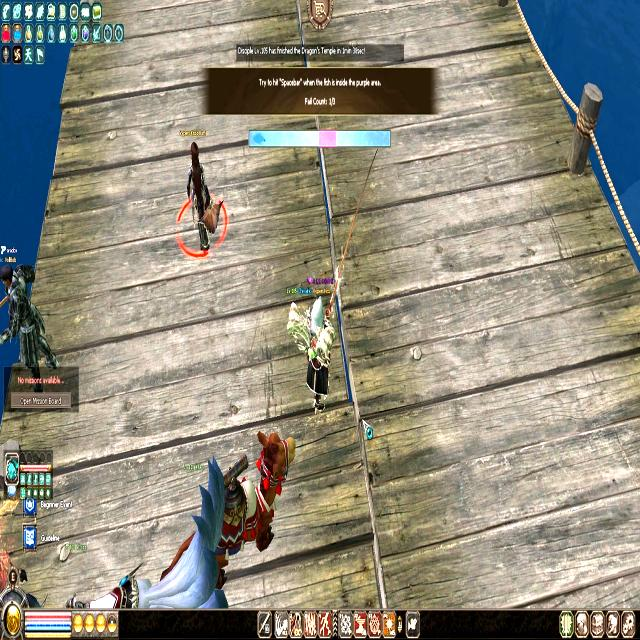fishes: (252, 131, 265, 145)
